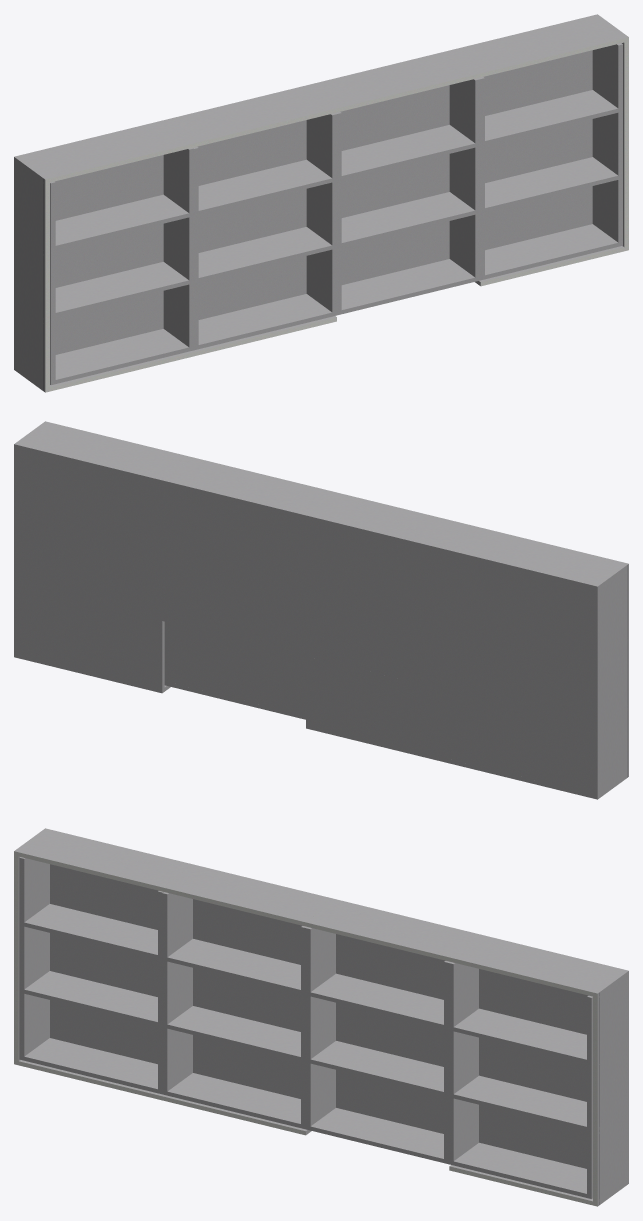
File: 档案柜.gltf
The picture shows the model from 3 angles, top to bottom: view 1: azimuth 30°, elevation 25°; view 2: azimuth 150°, elevation 25°; view 3: azimuth 330°, elevation 25°; orthographic projection.
Parts seen in each view (by area): view 1: 内柜1, 内柜3, 内柜2, 内柜4, 内柜5, 内柜9, 内柜6, 内柜7, 内柜8, 内柜10, 内柜12, 内柜11 (+8 smaller); view 2: 外柜1, 外柜4, 外柜2, 外柜3, 外柜9, 外柜5, 外柜12, 外柜10, 外柜8, 外柜6, 外柜7, 内柜11; view 3: 内柜4, 内柜2, 内柜1, 内柜3, 内柜8, 内柜12, 内柜5, 内柜6, 内柜7, 内柜9, 内柜11, 内柜10 (+8 smaller).
Boxes of the visible parts, <box> form: 内柜1: <box>50,148,193,250</box>; 内柜3: <box>336,78,479,181</box>; 内柜2: <box>193,113,336,215</box>; 内柜4: <box>479,43,622,146</box>; 内柜5: <box>50,216,193,317</box>; 内柜9: <box>50,283,193,384</box>; 内柜6: <box>194,181,336,283</box>; 内柜7: <box>337,146,479,248</box>; 内柜8: <box>480,111,622,213</box>; 内柜10: <box>194,248,336,350</box>; 内柜12: <box>480,178,622,280</box>; 内柜11: <box>337,213,479,315</box>; 外柜1: <box>449,527,628,658</box>; 外柜4: <box>14,421,193,552</box>; 外柜2: <box>306,492,480,622</box>; 外柜3: <box>162,457,336,587</box>; 外柜9: <box>449,691,628,799</box>; 外柜5: <box>449,623,628,727</box>; 外柜12: <box>14,585,170,693</box>; 外柜10: <box>306,656,449,763</box>; 外柜8: <box>14,516,162,620</box>; 外柜6: <box>306,588,449,690</box>; 外柜7: <box>162,553,305,655</box>; 内柜11: <box>165,622,305,719</box>; 内柜4: <box>448,962,592,1064</box>; 内柜2: <box>162,892,306,994</box>; 内柜1: <box>19,857,163,960</box>; 内柜3: <box>305,927,449,1029</box>; 内柜8: <box>448,1030,592,1131</box>; 内柜12: <box>448,1097,592,1198</box>; 内柜5: <box>19,925,162,1027</box>; 内柜6: <box>162,960,305,1062</box>; 内柜7: <box>305,995,448,1096</box>; 内柜9: <box>19,992,162,1094</box>; 内柜11: <box>305,1062,448,1164</box>; 内柜10: <box>162,1027,305,1129</box>.
Size of the model in its own units: 3.67 by 1.28 by 0.341.
Materials: 38 (38 with a texture image).
